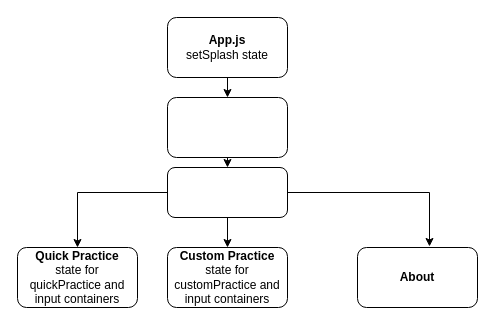
This 495x325 diagram has some shape labels left out. Each missing label, with the centre of its shape:
Header: point (227, 127)
Splash: point (227, 192)
